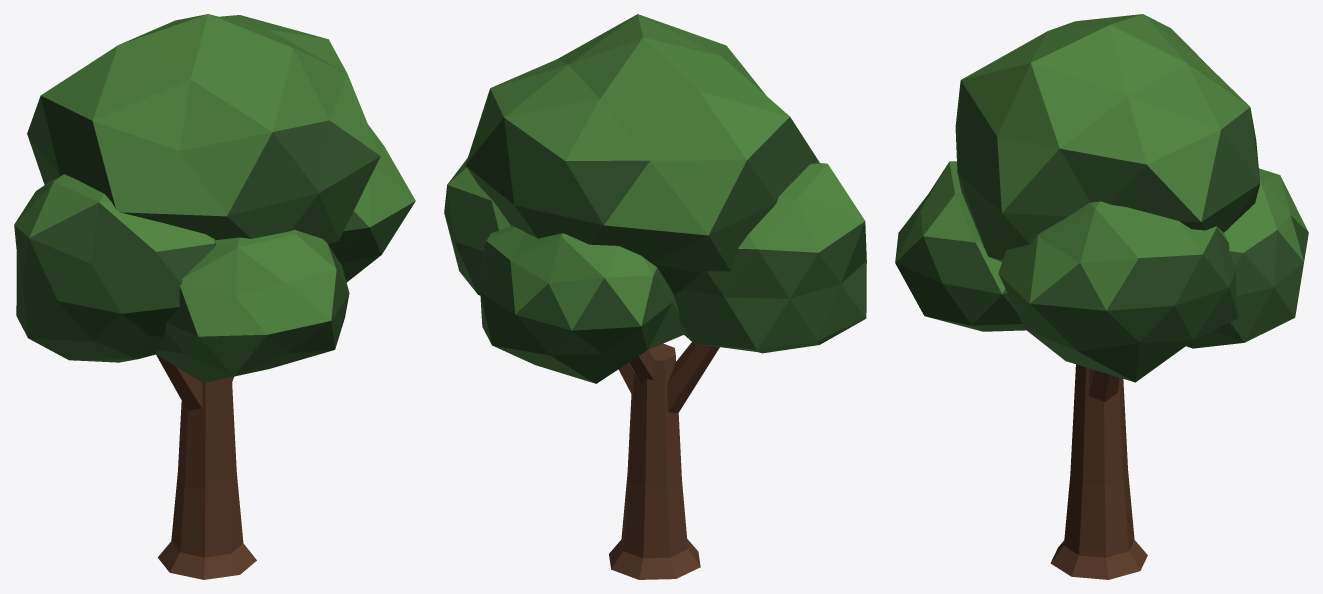
File: World_TreeRound.fbx
The picture shows the model from 3 angles, left to right: view 1: azimuth 30°, elevation 25°; view 2: azimuth 150°, elevation 25°; view 3: azimuth 270°, elevation 25°; orthographic projection. The views are drawn at different scales.
Parts seen in each view (by area): view 1: CanopyLight, CanopyDark, Trunk; view 2: CanopyDark, CanopyLight, Trunk; view 3: CanopyLight, CanopyDark, Trunk.
Boxes of the visible parts, box(x1,y1,x2,y2) form: CanopyLight: box(14, 14, 415, 336); CanopyDark: box(14, 96, 415, 383); Trunk: box(156, 355, 256, 579); CanopyDark: box(444, 117, 866, 383); CanopyLight: box(447, 14, 864, 330); Trunk: box(609, 342, 719, 579); CanopyLight: box(895, 14, 1308, 310); CanopyDark: box(895, 80, 1308, 382); Trunk: box(1050, 364, 1147, 579).
Size of the model in its own units: 1210 by 1612 by 1124.
